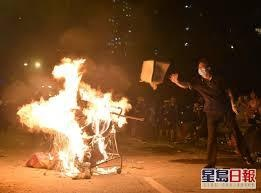fire: (18, 55, 131, 173)
